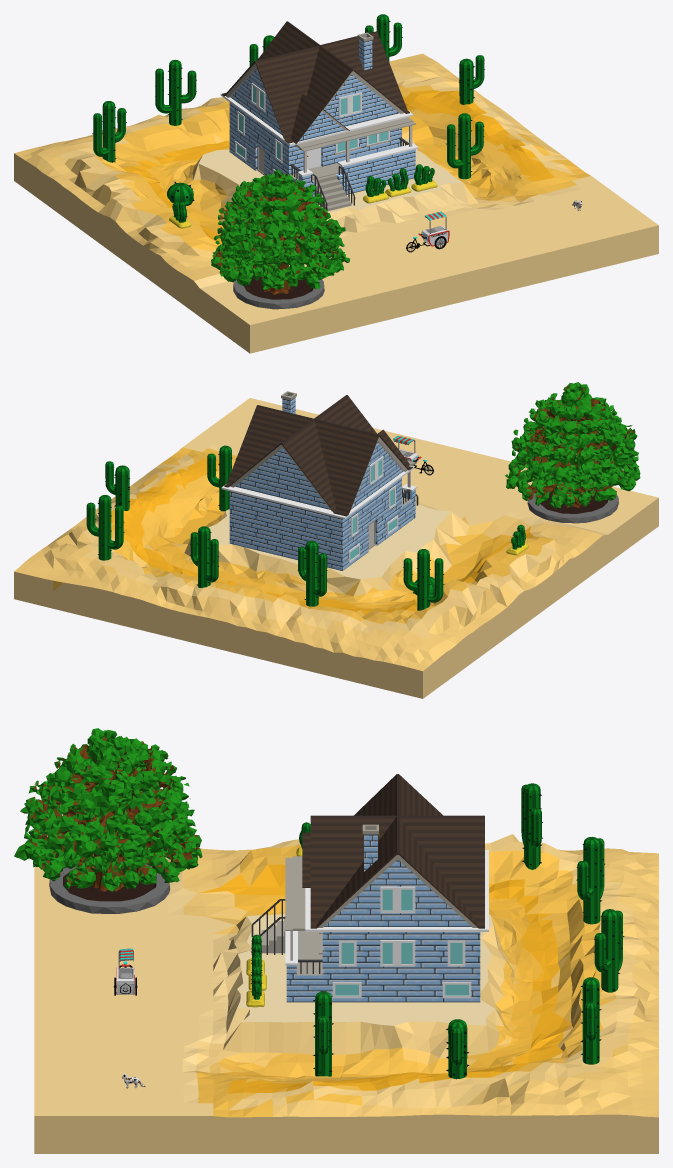
The picture shows the model from 3 angles, top to bottom: view 1: azimuth 30°, elevation 25°; view 2: azimuth 150°, elevation 25°; view 3: azimuth 270°, elevation 25°; orthographic projection. The views are drawn at different scales.
Visible parts, largest first — view 1: Cube.001, Cube.547, OBJRANDOM_CEIBA, Cylinder.044, Cylinder.037, Cylinder.045, Cylinder.038, VEHICLES_SNOWBAL_BIKE, Cylinder.042, Cylinder.041, Cylinder.039, Sphere.023 (+1 smaller); view 2: Cube.001, Cube.547, OBJRANDOM_CEIBA, Cylinder.042, Cylinder.045, Cylinder.044, Cylinder.043, Cylinder.037, Cylinder.038, VEHICLES_SNOWBAL_BIKE; view 3: Cube.001, Cube.547, OBJRANDOM_CEIBA, Cylinder.044, Cylinder.043, Cylinder.045, Cylinder.042, Cylinder.037, Cylinder.038, VEHICLES_SNOWBAL_BIKE.
Boxes of the visible parts, x1=… form: Cube.001: x1=14, y1=53, x2=658, y2=353; Cube.547: x1=220, y1=21, x2=418, y2=211; OBJRANDOM_CEIBA: x1=211, y1=169, x2=349, y2=309; Cylinder.044: x1=155, y1=59, x2=196, y2=125; Cylinder.037: x1=446, y1=113, x2=484, y2=179; Cylinder.045: x1=92, y1=101, x2=126, y2=162; Cylinder.038: x1=459, y1=55, x2=484, y2=104; VEHICLES_SNOWBAL_BIKE: x1=406, y1=211, x2=449, y2=252; Cylinder.042: x1=365, y1=14, x2=402, y2=61; Cylinder.041: x1=411, y1=164, x2=437, y2=191; Cylinder.039: x1=363, y1=176, x2=388, y2=203; Sphere.023: x1=167, y1=181, x2=194, y2=205; Cube.001: x1=14, y1=398, x2=658, y2=698; Cube.547: x1=221, y1=391, x2=418, y2=570; OBJRANDOM_CEIBA: x1=505, y1=382, x2=640, y2=523; Cylinder.042: x1=86, y1=495, x2=124, y2=560; Cylinder.045: x1=403, y1=549, x2=444, y2=610; Cylinder.044: x1=297, y1=540, x2=327, y2=606; Cylinder.043: x1=190, y1=526, x2=218, y2=587; Cylinder.037: x1=207, y1=445, x2=236, y2=511; Cylinder.038: x1=105, y1=461, x2=129, y2=510; VEHICLES_SNOWBAL_BIKE: x1=393, y1=435, x2=433, y2=475; Cube.001: x1=34, y1=834, x2=658, y2=1153; Cube.547: x1=251, y1=774, x2=488, y2=1002; OBJRANDOM_CEIBA: x1=14, y1=728, x2=202, y2=913; Cylinder.044: x1=576, y1=837, x2=604, y2=924; Cylinder.043: x1=593, y1=909, x2=624, y2=992; Cylinder.045: x1=521, y1=783, x2=542, y2=869; Cylinder.042: x1=580, y1=977, x2=601, y2=1064; Cylinder.037: x1=313, y1=991, x2=333, y2=1076; Cylinder.038: x1=446, y1=1019, x2=469, y2=1079; VEHICLES_SNOWBAL_BIKE: x1=113, y1=948, x2=137, y2=995.
Size of the model in its own units: 4015 by 1779 by 4132.
32 materials, 3 textured.
